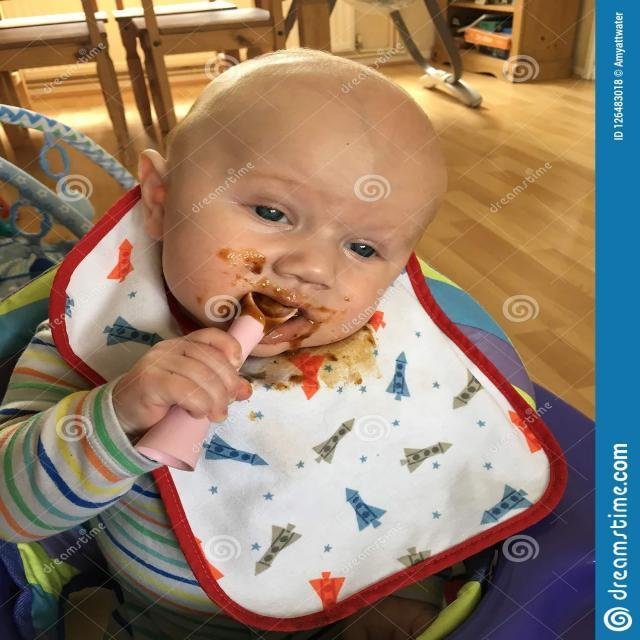child: (7, 51, 450, 532)
